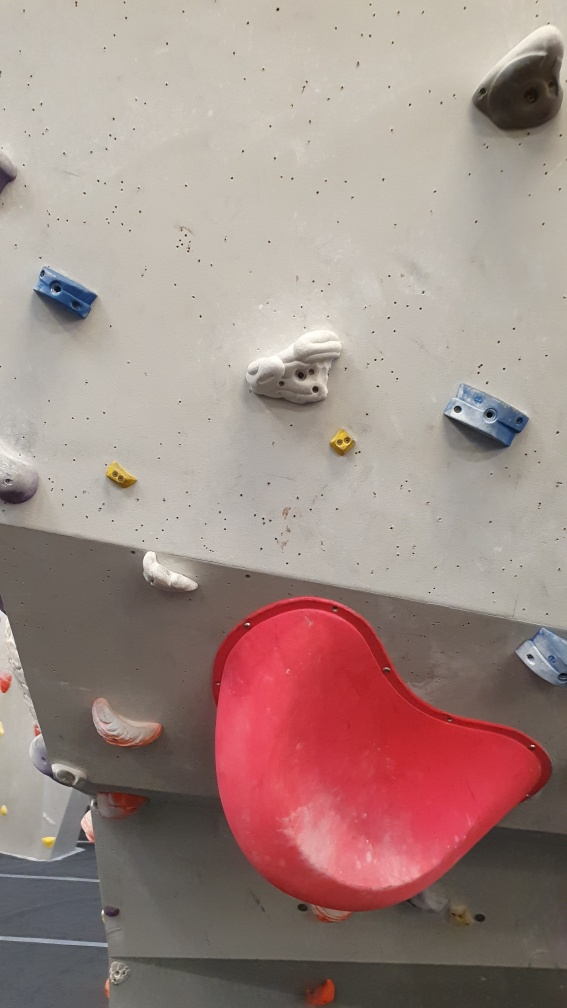Crimp: (104, 457, 139, 490)
Jug: (469, 23, 567, 139), (242, 326, 347, 411), (86, 692, 163, 750), (137, 545, 203, 598)
Pinch: (440, 377, 531, 454), (34, 265, 101, 323), (515, 624, 567, 684), (327, 425, 362, 463)
